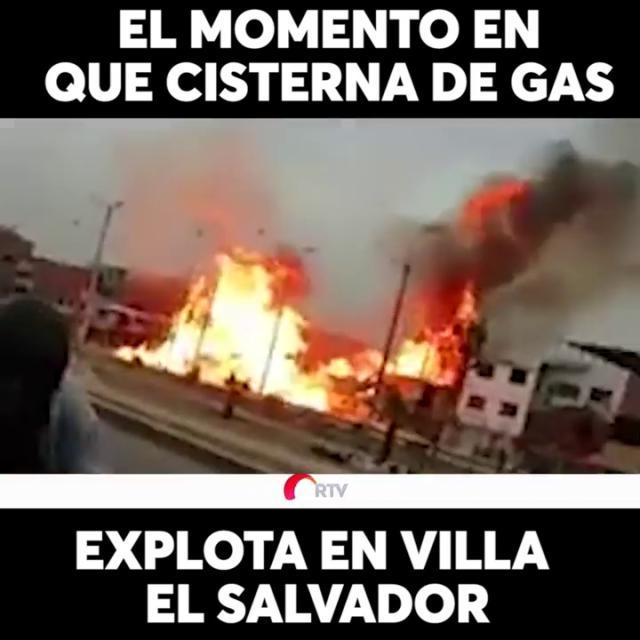Fire: (122, 242, 480, 416)
Smoke: (418, 127, 640, 347), (96, 118, 324, 259)
